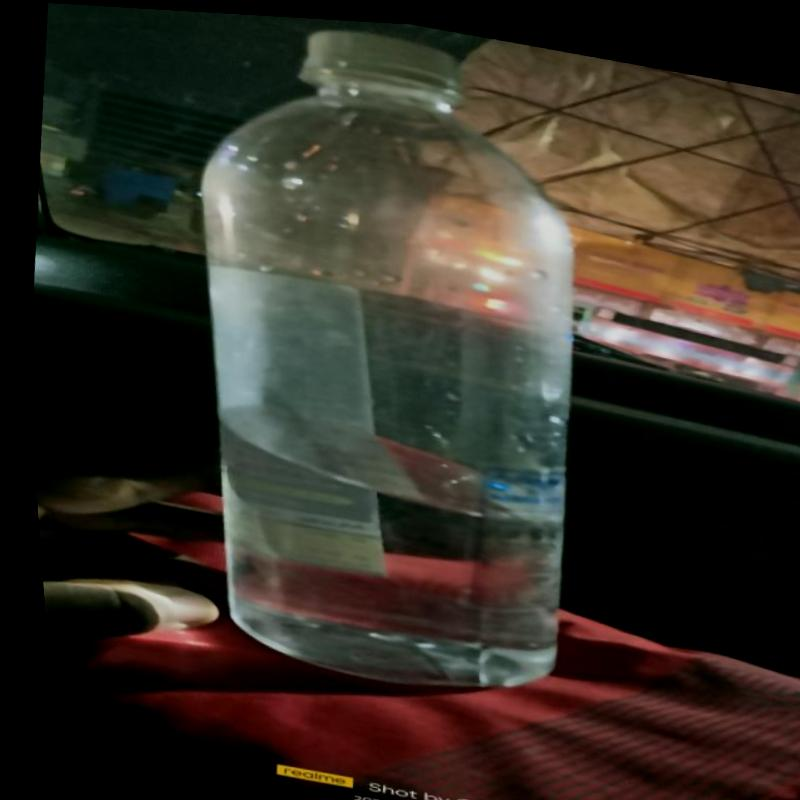botella: (119, 6, 661, 725)
